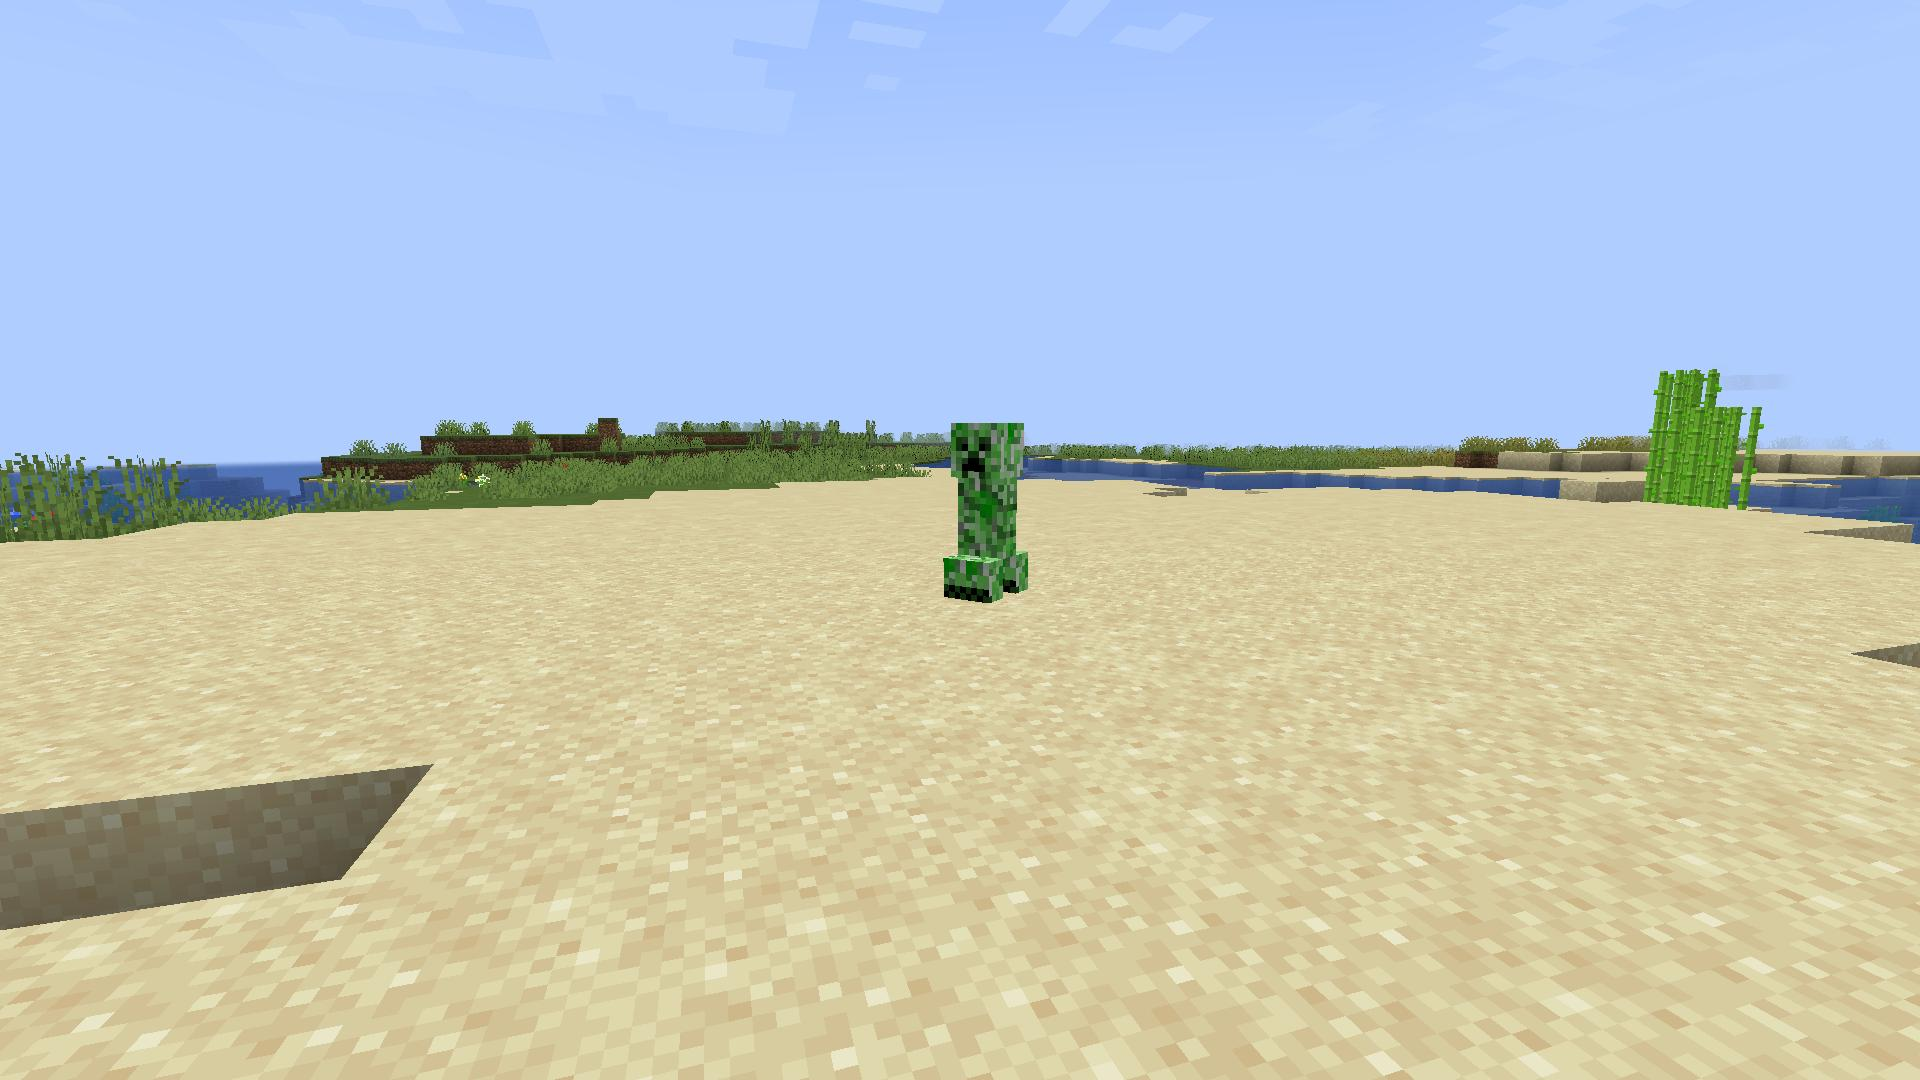creeper: (935, 410, 1044, 612)
